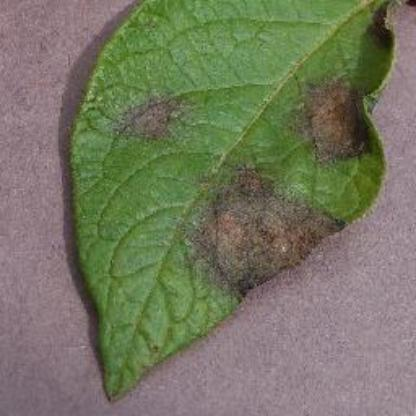Late-Blight: (58, 0, 402, 406)
